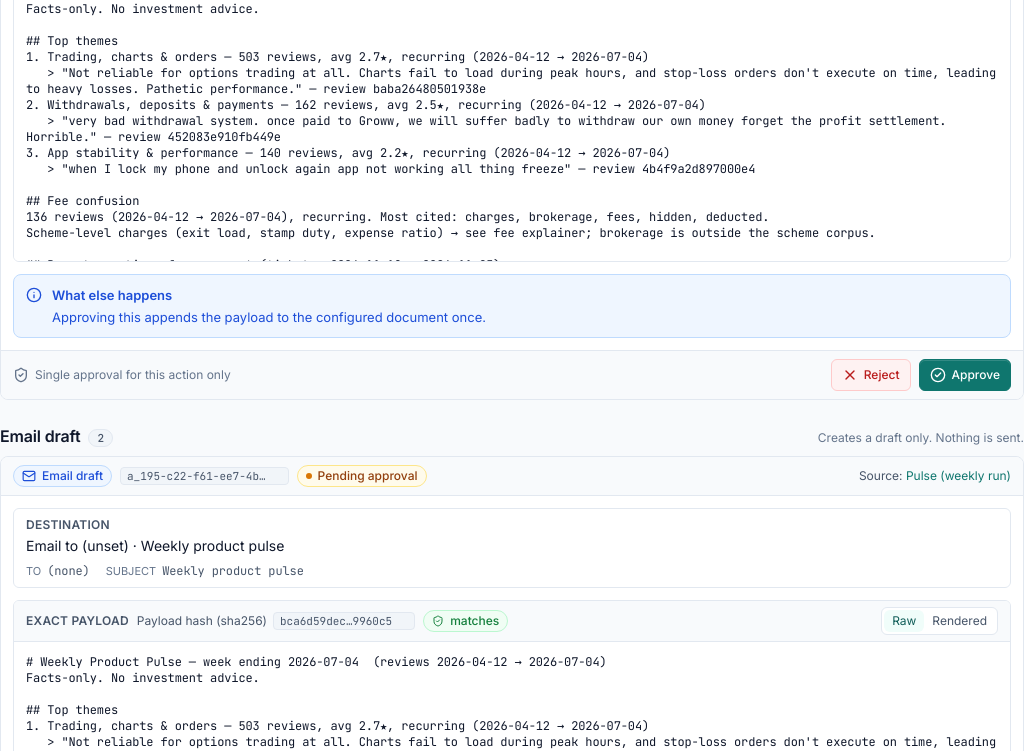
Test case: Approvals › approving one action changes only that card
Later steps or results of the test are not shown.
(page scrolled)
Click the button "Approve".
click(965, 375)  # box [918,359,1011,391]
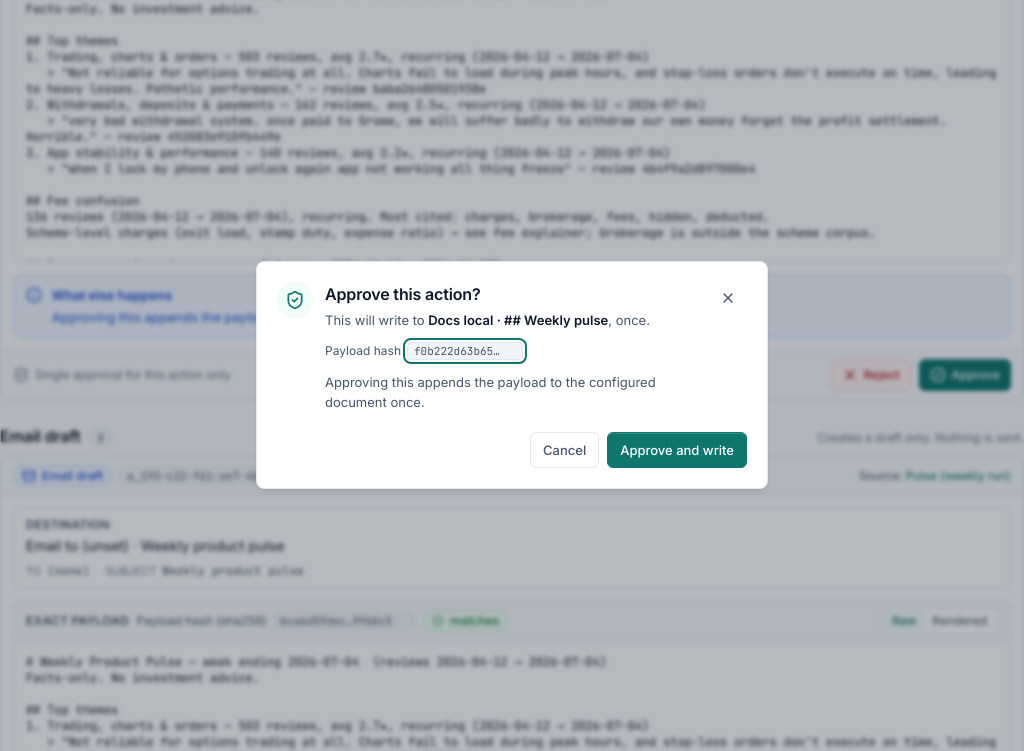
Now the text "This will write to Docs local · ## Weekly pulse, once." is shown, box [325,310,697,330]
